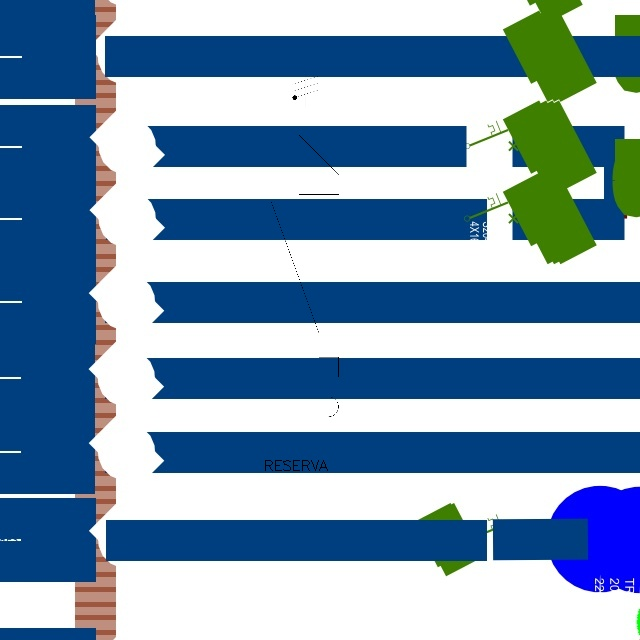interruptor_termomagnetico: (263, 106, 347, 449)
